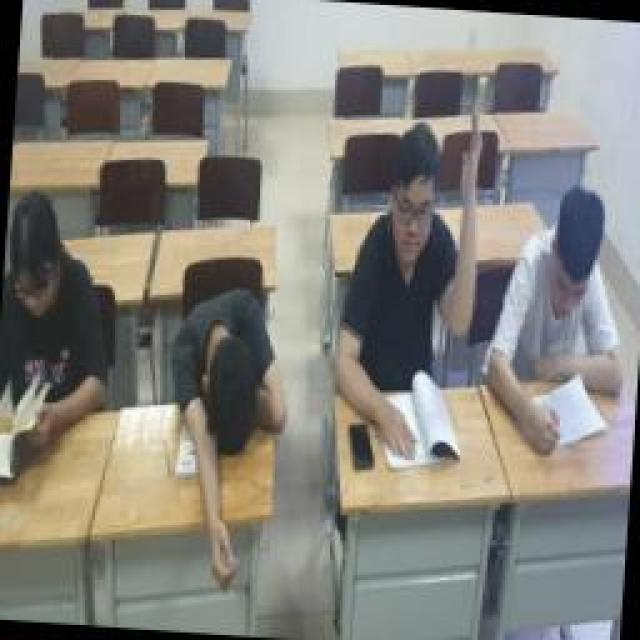sleep: (158, 280, 292, 582)
study: (330, 105, 490, 480), (483, 180, 635, 452), (0, 190, 118, 500)
